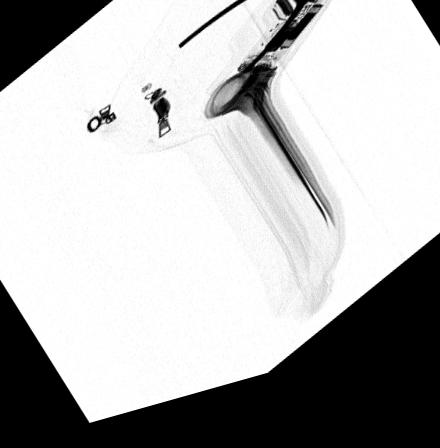Pliers: (239, 0, 316, 90), (177, 0, 275, 61)
